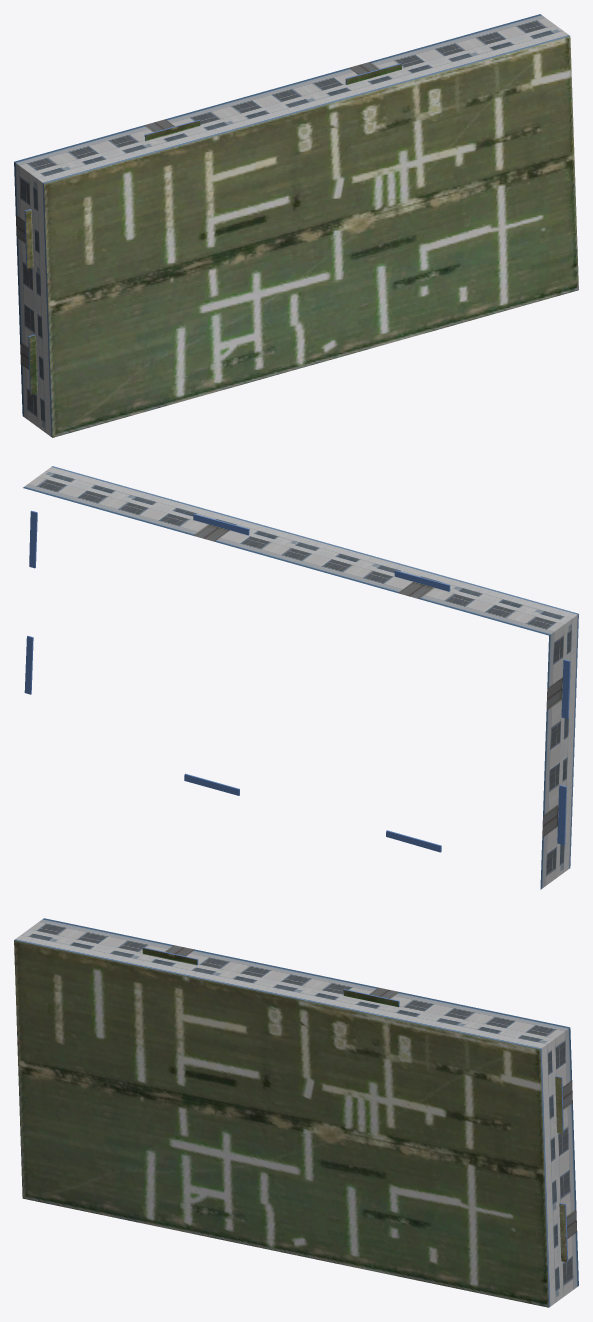
The picture shows the model from 3 angles, top to bottom: view 1: azimuth 30°, elevation 25°; view 2: azimuth 150°, elevation 25°; view 3: azimuth 330°, elevation 25°; orthographic projection.
Parts seen in each view (by area): view 1: Group_MatrixTransform_i95083_Geometry_10, Group_MatrixTransform_i95083_Geometry_1, Group_MatrixTransform_i95083_Geometry_0; view 2: Group_MatrixTransform_i95083_Geometry_1, Group_MatrixTransform_i95083_Geometry_0, Group_MatrixTransform_i95083_Geometry_11; view 3: Group_MatrixTransform_i95083_Geometry_10, Group_MatrixTransform_i95083_Geometry_1, Group_MatrixTransform_i95083_Geometry_0.
Part boxes in pixels (x1=…): Group_MatrixTransform_i95083_Geometry_10: x1=44, y1=36, x2=578, y2=437; Group_MatrixTransform_i95083_Geometry_1: x1=14, y1=14, x2=569, y2=351; Group_MatrixTransform_i95083_Geometry_0: x1=14, y1=59, x2=409, y2=437; Group_MatrixTransform_i95083_Geometry_1: x1=23, y1=466, x2=578, y2=803; Group_MatrixTransform_i95083_Geometry_0: x1=183, y1=511, x2=578, y2=889; Group_MatrixTransform_i95083_Geometry_11: x1=24, y1=510, x2=570, y2=852; Group_MatrixTransform_i95083_Geometry_10: x1=14, y1=940, x2=548, y2=1307; Group_MatrixTransform_i95083_Geometry_1: x1=14, y1=918, x2=578, y2=1307; Group_MatrixTransform_i95083_Geometry_0: x1=135, y1=943, x2=577, y2=1261.
Bounding box in the file's own units: 81.24 × 39.59 × 7.73.
12 materials, 12 textured.
